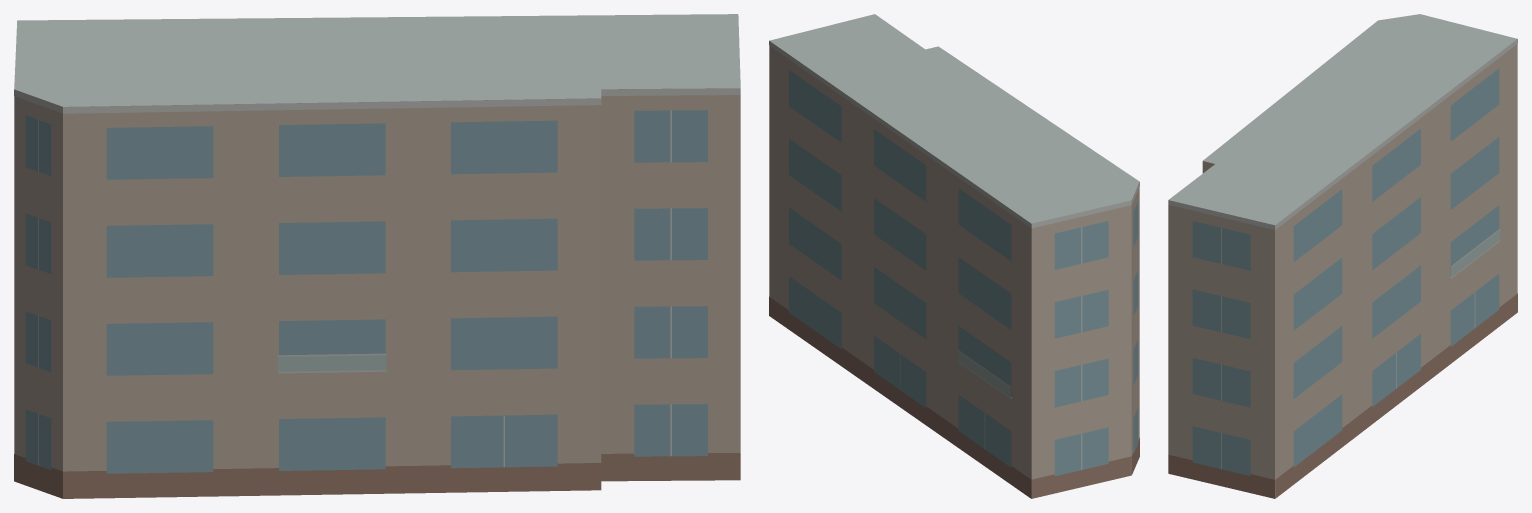
The model's file is survey-upis-32679418.glb.
The picture shows the model from 3 angles, left to right: view 1: azimuth 30°, elevation 25°; view 2: azimuth 150°, elevation 25°; view 3: azimuth 270°, elevation 25°; orthographic projection. The views are drawn at different scales.
Parts seen in each view (by area): view 1: survey-upis-32679418.tmp; view 2: survey-upis-32679418.tmp; view 3: survey-upis-32679418.tmp.
Boxes of the visible parts, x1,y1,x2,y2 form: survey-upis-32679418.tmp: [14, 14, 740, 498]; survey-upis-32679418.tmp: [769, 14, 1139, 498]; survey-upis-32679418.tmp: [1168, 14, 1517, 498].
Size of the model in its own units: 23.2 by 14 by 16.22.
